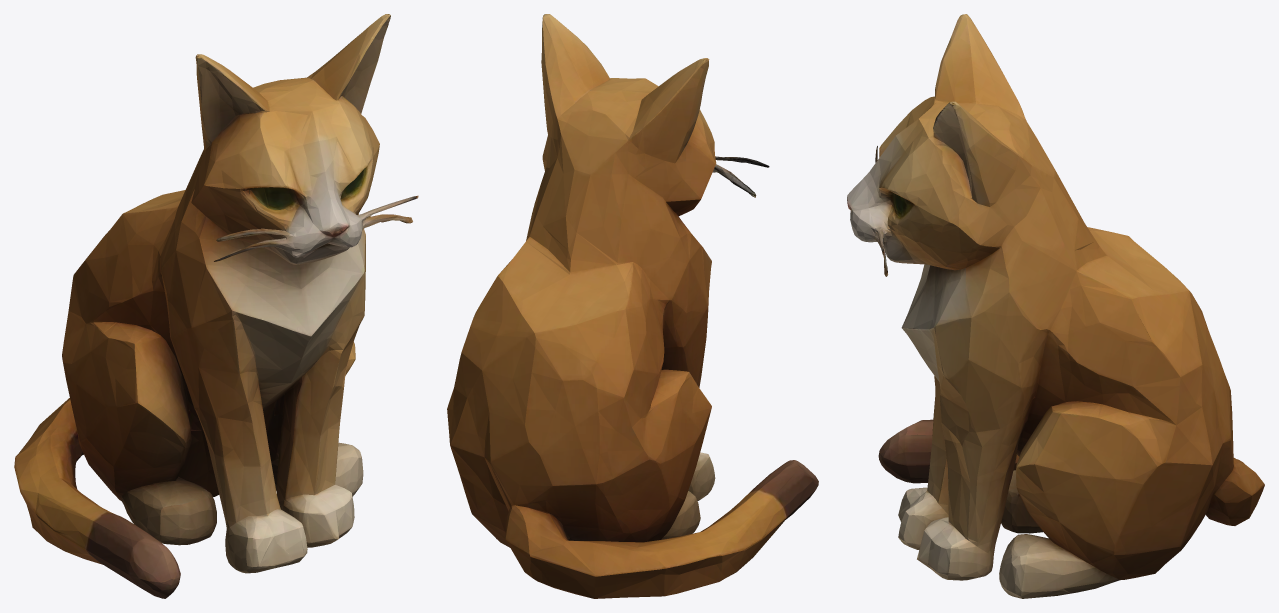
Rendered from feline.glb.
3 renders of one model, left to right at view 1: azimuth 30°, elevation 25°; view 2: azimuth 150°, elevation 25°; view 3: azimuth 270°, elevation 25°, orthographic. The views are drawn at different scales.
Visible parts, largest first — view 1: world; view 2: world; view 3: world.
Boxes of the visible parts, <box> form: world: <box>14,14,418,598</box>; world: <box>447,14,818,598</box>; world: <box>847,14,1264,598</box>.
Size of the model in its own units: 0.6099 by 1 by 0.7535.
1 material, 1 textured.
